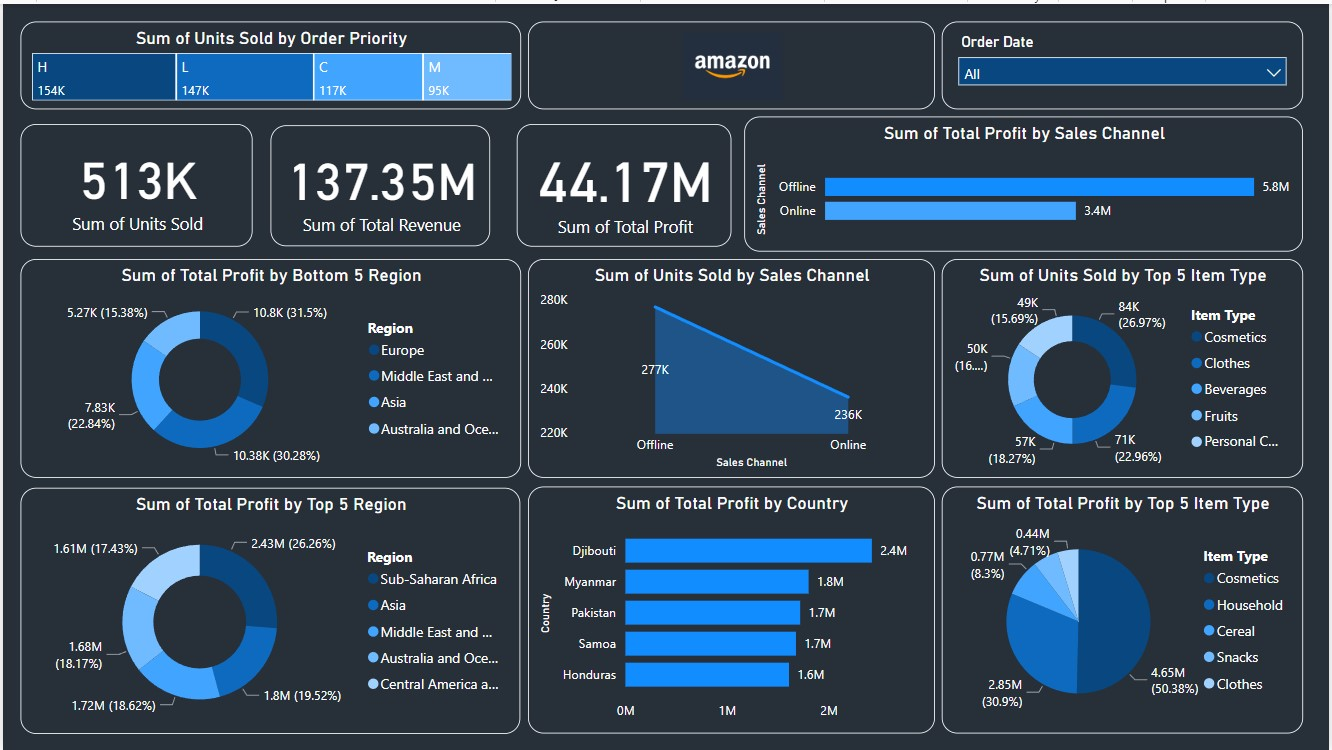

What the dashboard file says about the page in this screenshot:
{"tool":"powerbi","page":{"name":"Page 1","canvas":[1280,720],"ordinal":0},"visuals":[{"type":"image","box":[506.3,16.5,392.5,85.1],"z":0},{"type":"clusteredBarChart","fields":{"Category":["Amazon Sales data (2).Country"],"Y":["Sum(Amazon Sales data (2).Total Profit)"]},"box":[506.3,465.2,392.5,238.8],"z":1000},{"type":"donutChart","title":"Sum of Total Profit by Top 5 Region","fields":{"Category":["Amazon Sales data (2).Region","Amazon Sales data (2).Country"],"Y":["Sum(Amazon Sales data (2).Total Profit)"]},"box":[16.9,466.9,482.6,237.7],"z":2000},{"type":"clusteredBarChart","fields":{"Category":["Amazon Sales data (2).Sales Channel"],"Y":["Sum(Amazon Sales data (2).Total Profit)"]},"box":[714.9,108.4,539.3,130.4],"z":3000},{"type":"pieChart","title":"Sum of Total Profit by Top 5 Item Type","fields":{"Category":["Amazon Sales data (2).Item Type"],"Y":["Sum(Amazon Sales data (2).Total Profit)"]},"box":[905.7,465.2,348.5,238.8],"z":4000},{"type":"donutChart","title":"Sum of Total Profit by Bottom 5 Region","fields":{"Category":["Amazon Sales data (2).Region","Amazon Sales data (2).Country"],"Y":["Sum(Amazon Sales data (2).Total Profit)"]},"box":[16.5,245.6,483,211.3],"z":5000},{"type":"stackedAreaChart","fields":{"Category":["Amazon Sales data (2).Sales Channel"],"Y":["Sum(Amazon Sales data (2).Units Sold)"]},"box":[506.3,245.6,392.5,211.3],"z":6000},{"type":"donutChart","title":"Sum of Units Sold by Top 5 Item Type","fields":{"Category":["Amazon Sales data (2).Item Type"],"Y":["Sum(Amazon Sales data (2).Units Sold)"]},"box":[905.7,245.6,348.5,211.3],"z":7000},{"type":"treemap","fields":{"Group":["Amazon Sales data (2).Order Priority"],"Values":["Sum(Amazon Sales data (2).Units Sold)"]},"box":[16.5,16.5,483,85.1],"z":8000},{"type":"slicer","fields":{"Values":["Amazon Sales data (2).Order Date"]},"box":[905.7,16.5,348.5,85.1],"z":9000},{"type":"card","fields":{"Values":["Sum(Amazon Sales data (2).Total Profit)"]},"box":[495.4,115.3,207.2,118],"z":10000},{"type":"card","fields":{"Values":["Sum(Amazon Sales data (2).Total Revenue)"]},"box":[258.2,117,212.3,117],"z":11000},{"type":"card","fields":{"Values":["Sum(Amazon Sales data (2).Units Sold)"]},"box":[16.5,115.3,223.7,118],"z":12000}]}

Visuals, with their boxes in screenshot pixels (x1, y1, x2, y2), scaled from the page's 1280x720 canvas onto the 1332x750 screenshot:
image: pyautogui.locateOnScreen(527, 17, 935, 106)
clusteredBarChart - Amazon Sales data (2).Country x Sum(Amazon Sales data (2).Total Profit): pyautogui.locateOnScreen(527, 485, 935, 733)
"Sum of Total Profit by Top 5 Region" donutChart: pyautogui.locateOnScreen(18, 486, 520, 734)
clusteredBarChart - Amazon Sales data (2).Sales Channel x Sum(Amazon Sales data (2).Total Profit): pyautogui.locateOnScreen(744, 113, 1305, 249)
"Sum of Total Profit by Top 5 Item Type" pieChart: pyautogui.locateOnScreen(942, 485, 1305, 733)
"Sum of Total Profit by Bottom 5 Region" donutChart: pyautogui.locateOnScreen(17, 256, 520, 476)
stackedAreaChart - Amazon Sales data (2).Sales Channel x Sum(Amazon Sales data (2).Units Sold): pyautogui.locateOnScreen(527, 256, 935, 476)
"Sum of Units Sold by Top 5 Item Type" donutChart: pyautogui.locateOnScreen(942, 256, 1305, 476)
treemap - Amazon Sales data (2).Order Priority x Sum(Amazon Sales data (2).Units Sold): pyautogui.locateOnScreen(17, 17, 520, 106)
slicer - Amazon Sales data (2).Order Date: pyautogui.locateOnScreen(942, 17, 1305, 106)
card - Sum(Amazon Sales data (2).Total Profit): pyautogui.locateOnScreen(516, 120, 731, 243)
card - Sum(Amazon Sales data (2).Total Revenue): pyautogui.locateOnScreen(269, 122, 490, 244)
card - Sum(Amazon Sales data (2).Units Sold): pyautogui.locateOnScreen(17, 120, 250, 243)
